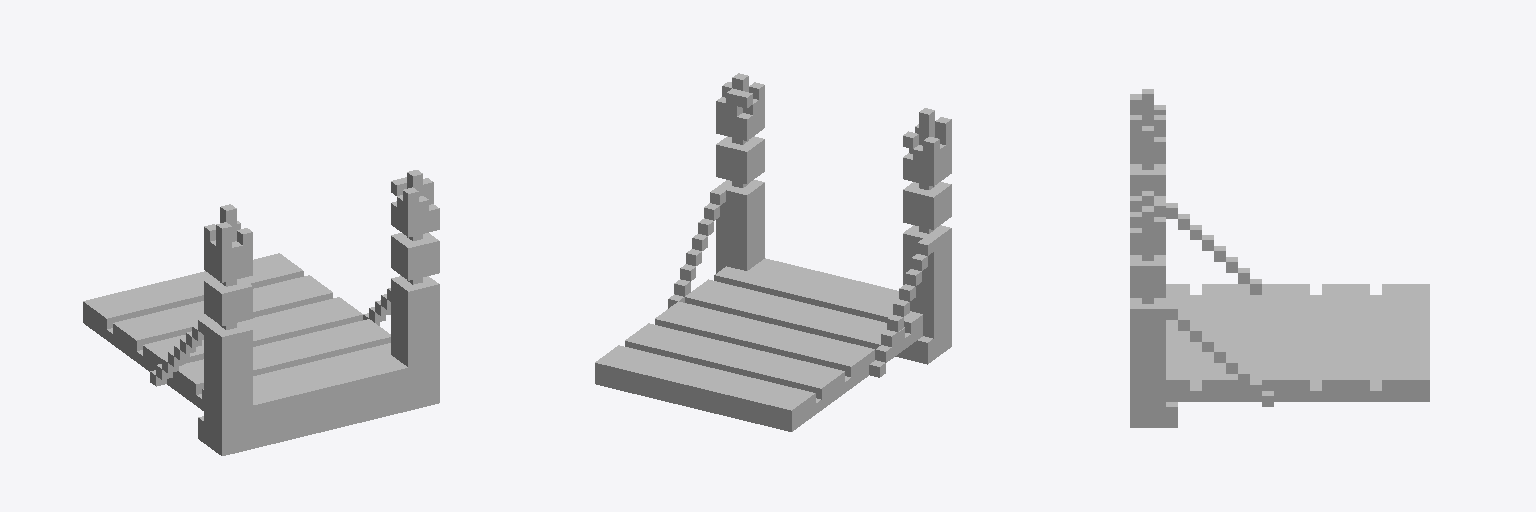
Rendered from Package 01 Necro Dungeon-49.obj.
3 renders of one model, left to right at view 1: azimuth 30°, elevation 25°; view 2: azimuth 150°, elevation 25°; view 3: azimuth 270°, elevation 25°, orthographic.
Parts seen in each view (by area): view 1: object 1; view 2: object 1; view 3: object 1.
Part boxes in pixels (left/top/right/bottom): object 1: left=83, top=170, right=439, bottom=455; object 1: left=595, top=73, right=951, bottom=431; object 1: left=1130, top=89, right=1429, bottom=427.
Bounding box in the file's own units: 2.1 × 2.2 × 2.5.